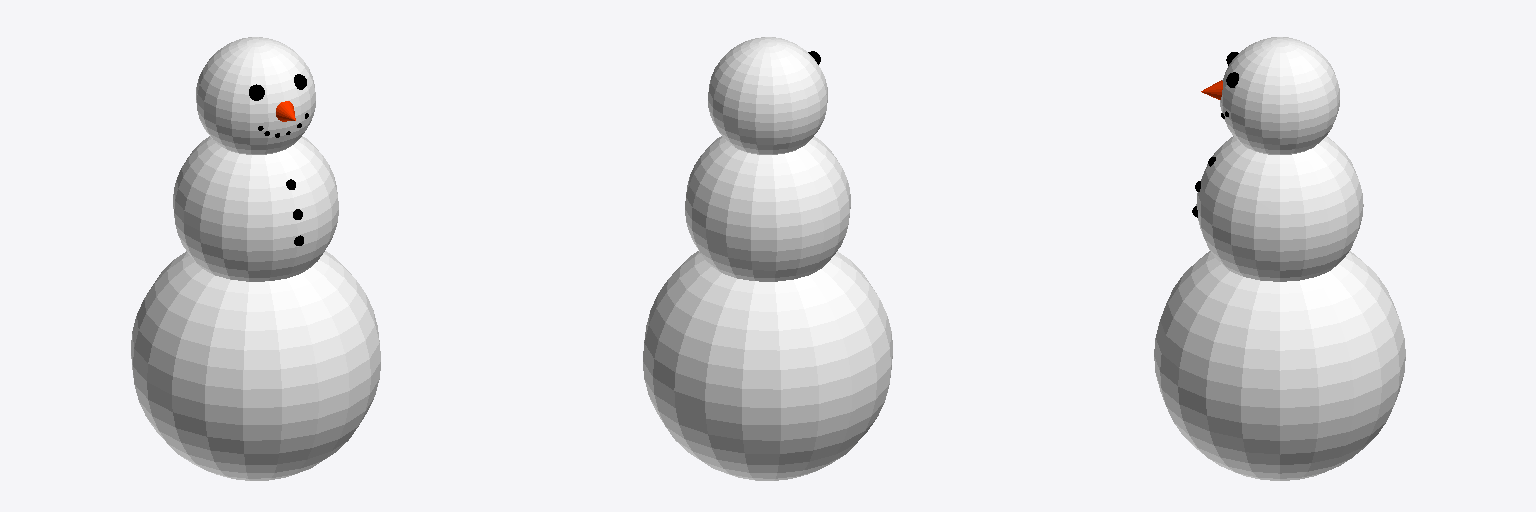
Rendered from snowman.obj.
3 views of the same model, side by side, from view 1: azimuth 30°, elevation 25°; view 2: azimuth 150°, elevation 25°; view 3: azimuth 270°, elevation 25° (orthographic).
Visible parts, largest first — view 1: pSphere15; view 2: pSphere15; view 3: pSphere15.
Part boxes in pixels (bbox=[...]): pSphere15: bbox=[131, 37, 380, 480]; pSphere15: bbox=[643, 37, 892, 480]; pSphere15: bbox=[1154, 37, 1405, 480].
Bounding box in the file's own units: 0.9825 × 1.84 × 0.9825.